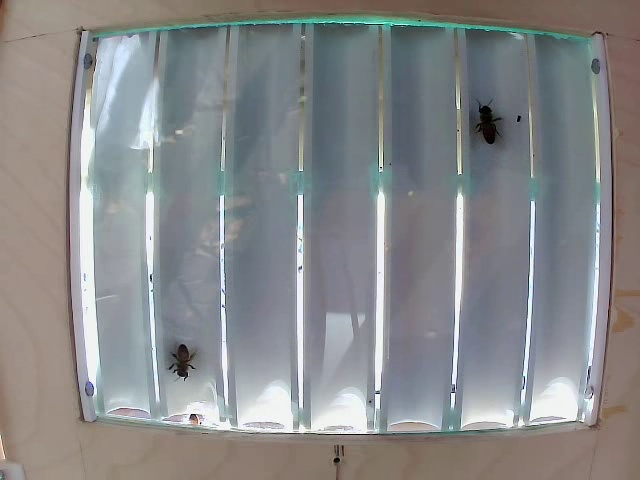bee: (473, 90, 517, 150), (167, 328, 205, 378)
